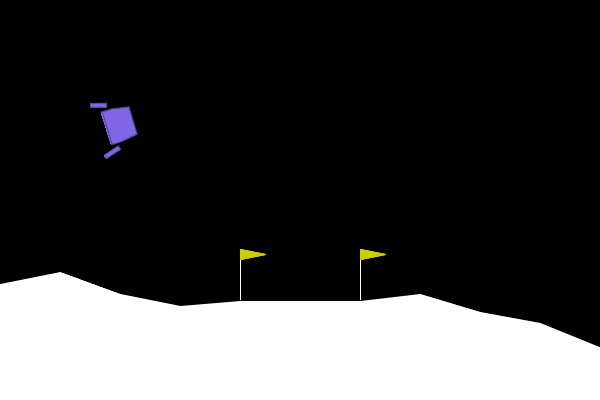lander: (88, 91, 143, 160)
